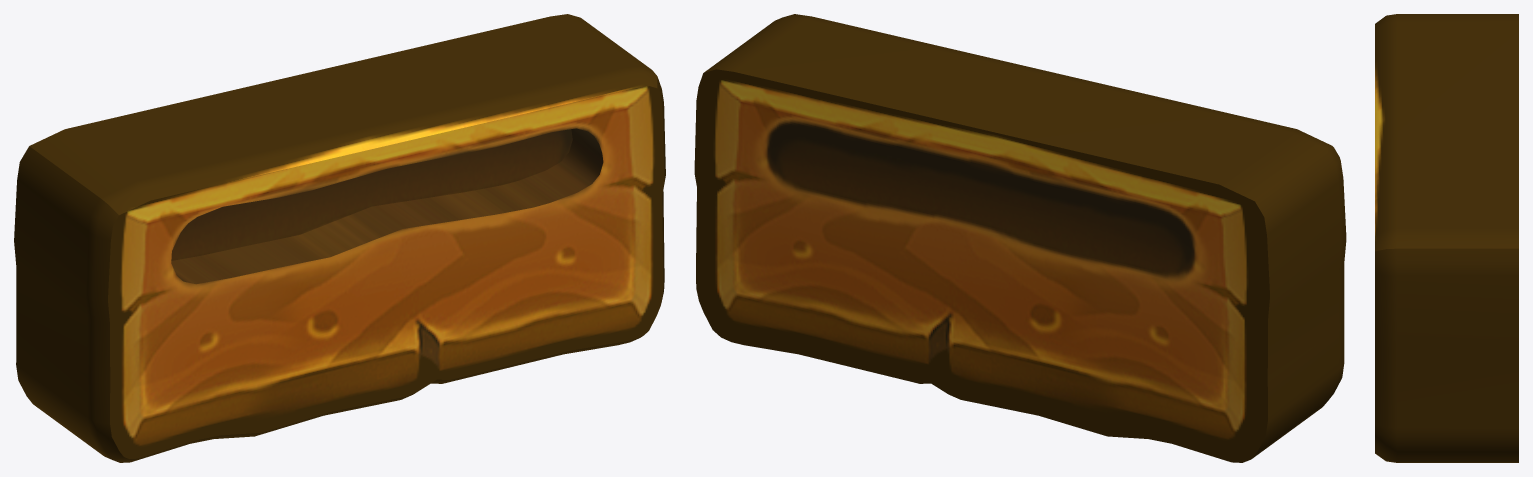
3 renders of one model, left to right at view 1: azimuth 30°, elevation 25°; view 2: azimuth 150°, elevation 25°; view 3: azimuth 270°, elevation 25°, orthographic. The views are drawn at different scales.
Visible parts, largest first — view 1: Base; view 2: Base; view 3: Base.
Part boxes in pixels (<box>): Base: <box>14,14,665,462</box>; Base: <box>694,14,1346,462</box>; Base: <box>1375,14,1518,462</box>.
Size of the model in its own units: 13.96 by 6.47 by 3.55.
